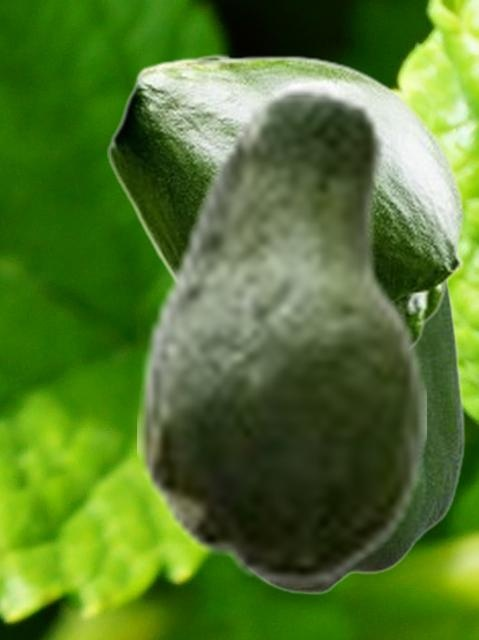sayote: (137, 85, 425, 588), (107, 54, 464, 345), (257, 280, 465, 594)
